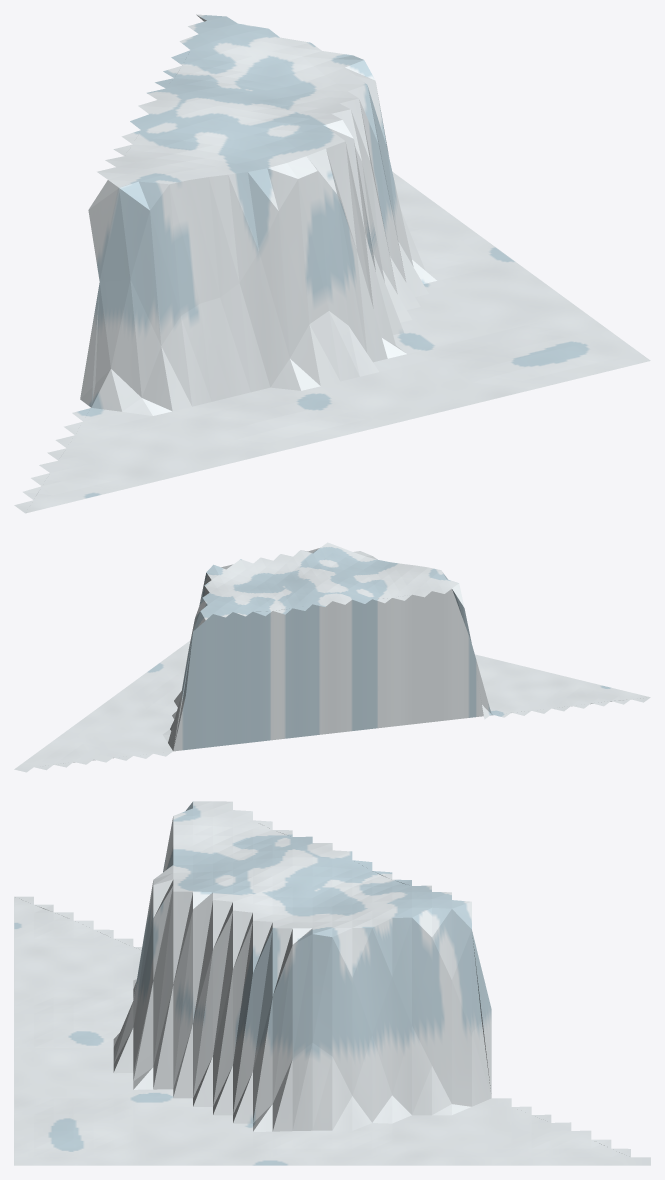
The model's file is Snow_Mountains_10_NE.obj.
3 views of the same model, one above another, from view 1: azimuth 30°, elevation 25°; view 2: azimuth 150°, elevation 25°; view 3: azimuth 270°, elevation 25° (orthographic). The views are drawn at different scales.
Size of the model in its own units: 10 by 3.16 by 10.
Materials: 1 (1 with a texture image).
